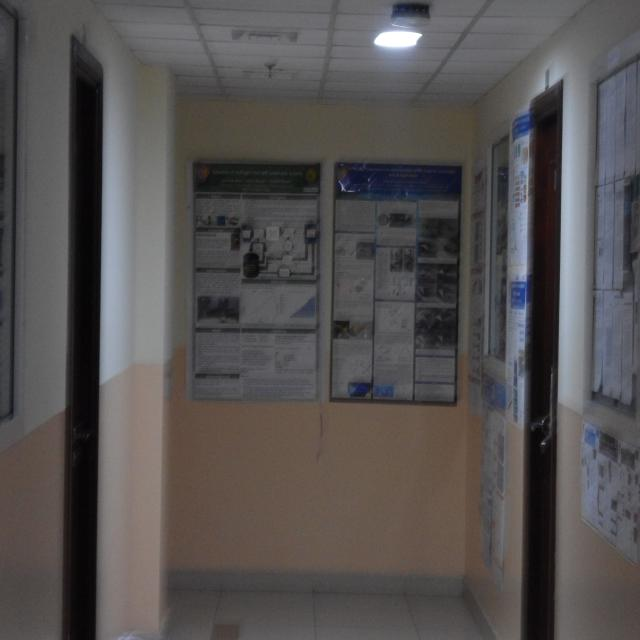board: (183, 152, 318, 406), (331, 159, 466, 398), (588, 44, 640, 388), (582, 420, 640, 596), (508, 118, 526, 394), (470, 175, 484, 405), (488, 373, 503, 570)
door: (67, 38, 109, 640), (526, 74, 559, 640)
light: (377, 24, 422, 60)
wall: (132, 59, 168, 640)
window: (0, 21, 42, 419)
